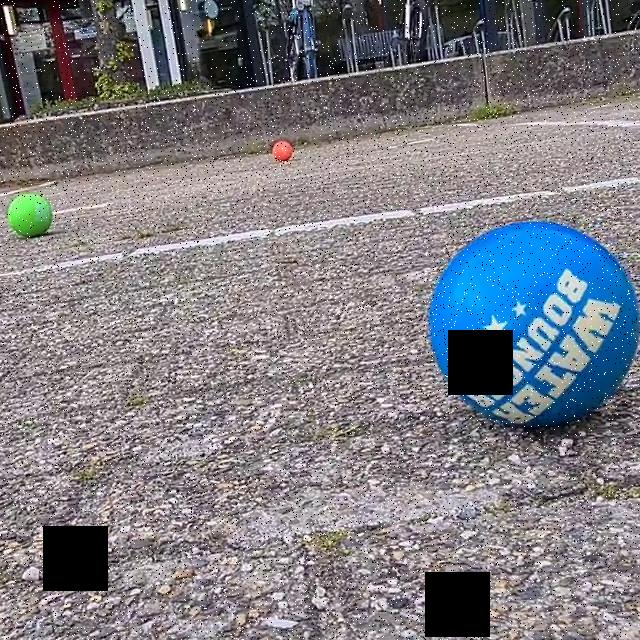ball: (8, 189, 54, 239), (269, 137, 296, 164)
